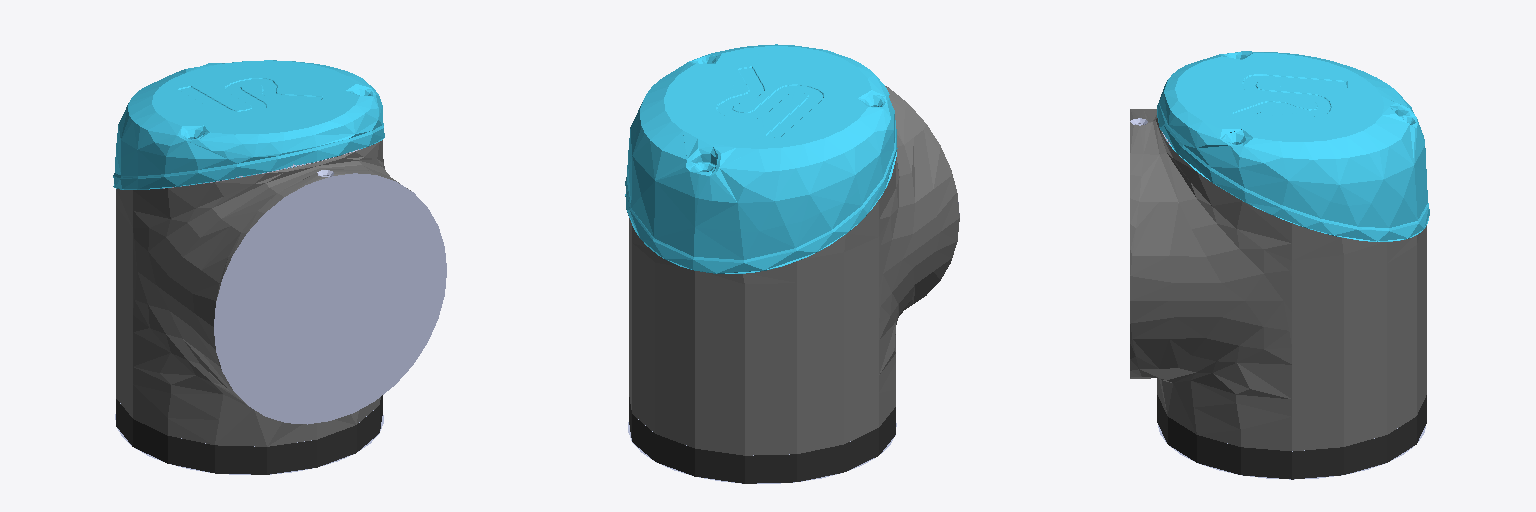
File: URjoint1.obj
3 renders of one model, left to right at view 1: azimuth 30°, elevation 25°; view 2: azimuth 150°, elevation 25°; view 3: azimuth 270°, elevation 25°, orthographic.
Parts seen in each view (by area): view 1: joint1; view 2: joint1; view 3: joint1.
Part boxes in pixels (x1,y1,x2,y2): joint1: (113, 60, 446, 474); joint1: (625, 44, 959, 483); joint1: (1130, 51, 1429, 479).
Size of the model in its own units: 90.76 by 123 by 99.9.